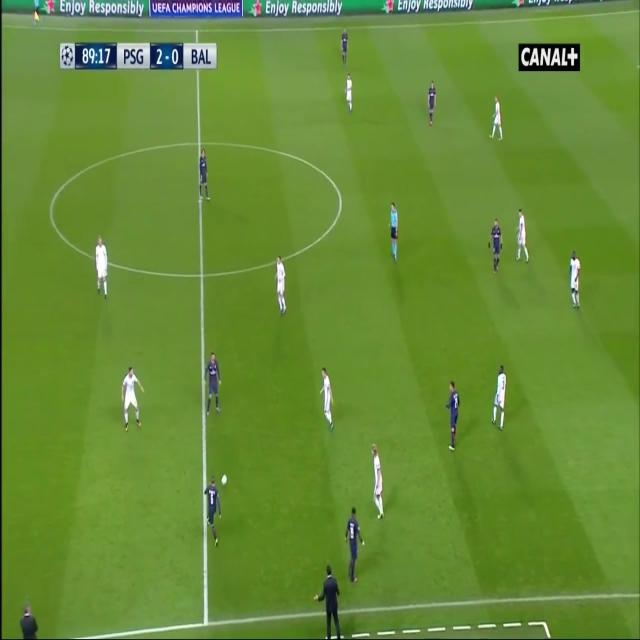Ball: (221, 470, 228, 493)
Player: (120, 365, 145, 439), (344, 504, 366, 587), (201, 351, 224, 421), (490, 363, 510, 435), (204, 474, 222, 550), (93, 232, 111, 302), (446, 376, 462, 454), (319, 364, 336, 434), (485, 217, 505, 275), (513, 206, 532, 267), (370, 439, 384, 520), (568, 250, 582, 312), (488, 90, 504, 144), (274, 254, 287, 317), (198, 146, 211, 206), (426, 78, 438, 129), (339, 28, 351, 71), (345, 73, 355, 117)
Referee: (387, 198, 399, 264)
